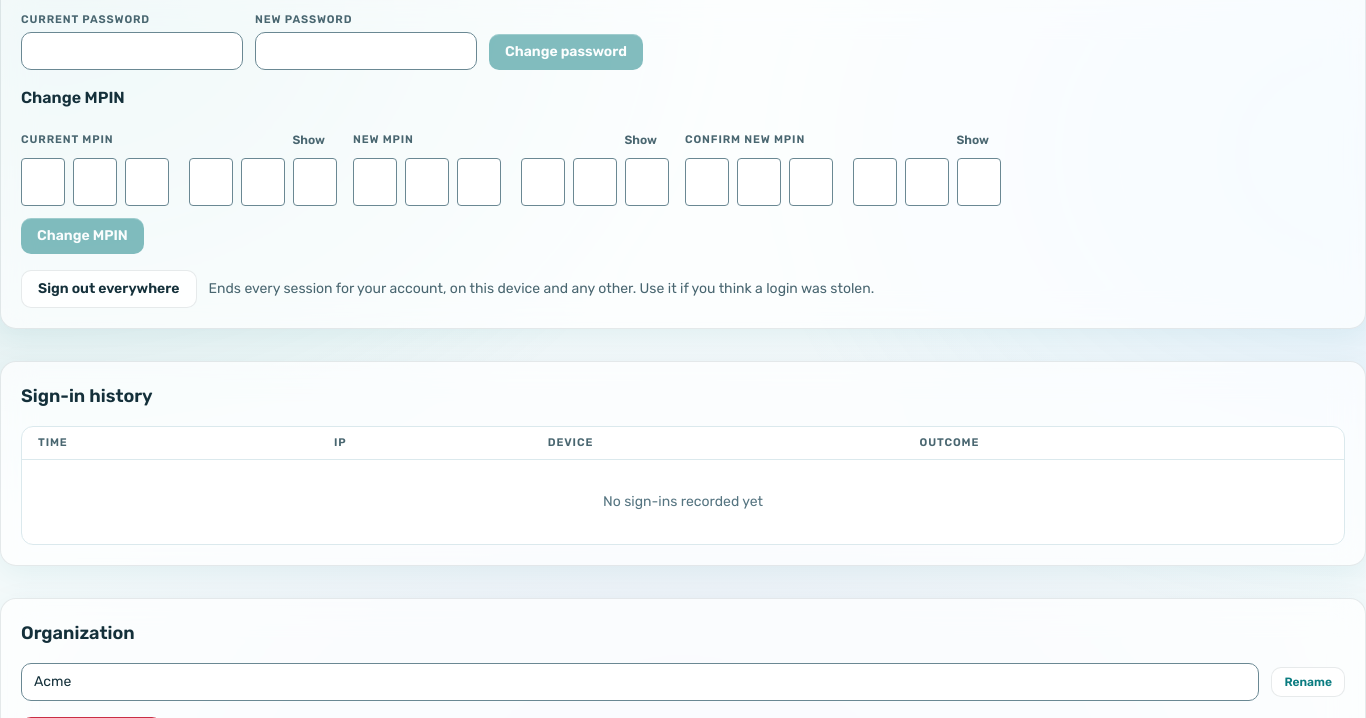
rename failure shows an error banner
(page scrolled)
Replace the text in the field named "Organization name" with "Acme Renamed" at coordinates (640, 682), box [21,663,1259,701]
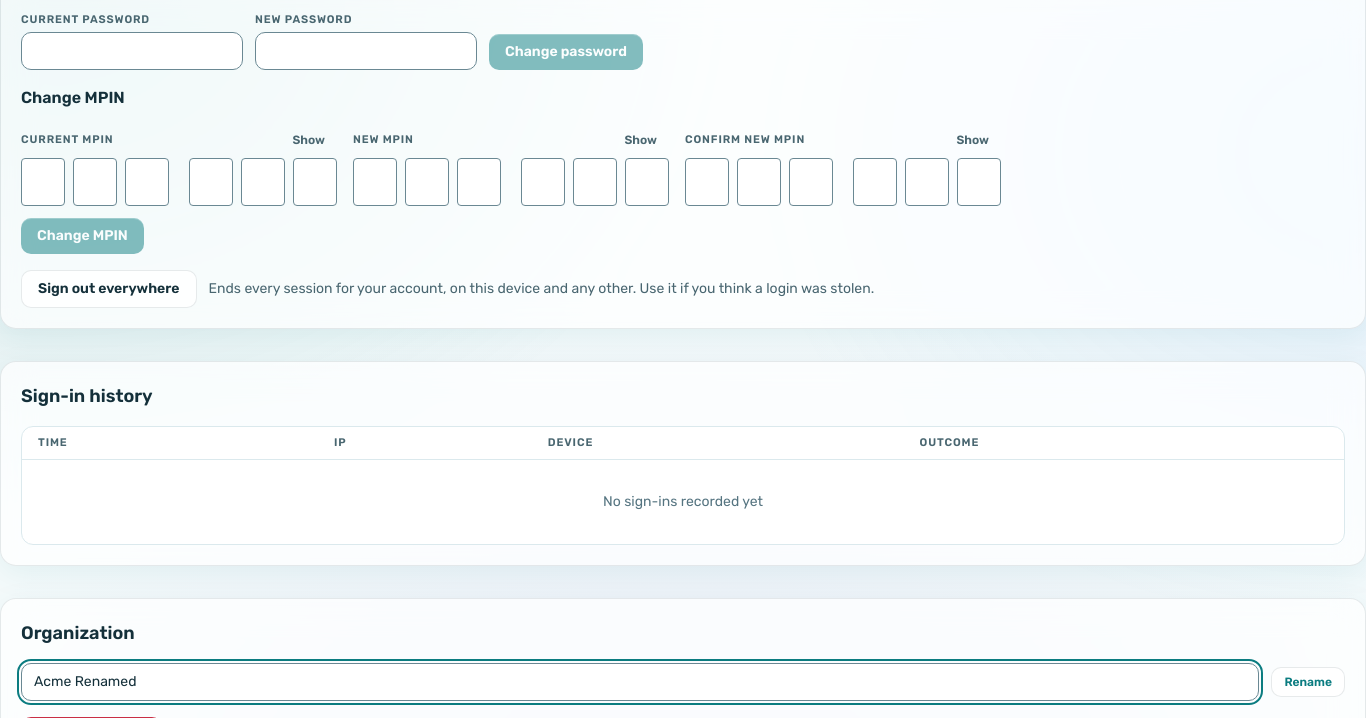
Click the button "Rename" at coordinates (1308, 682), box [1271,667,1345,697]
(page scrolled)
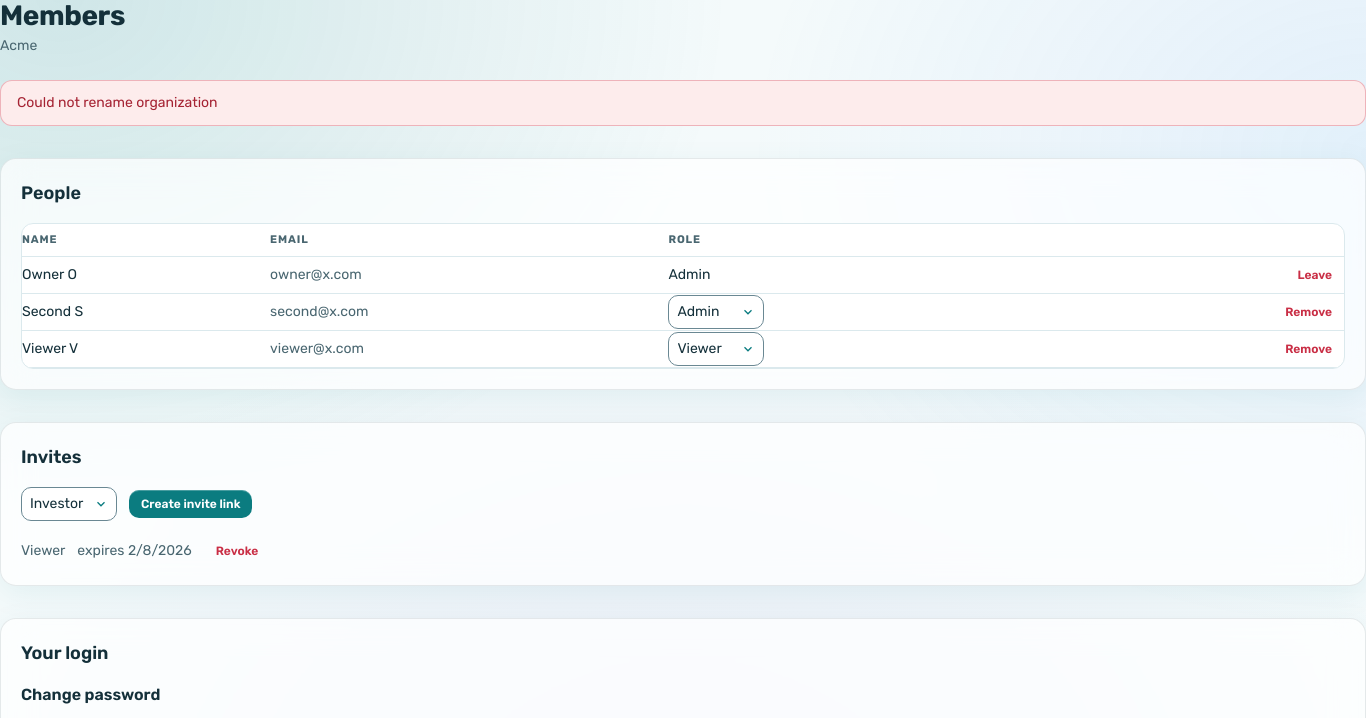
Result: the text "Could not rename organization" is shown at [17,93,218,113]
